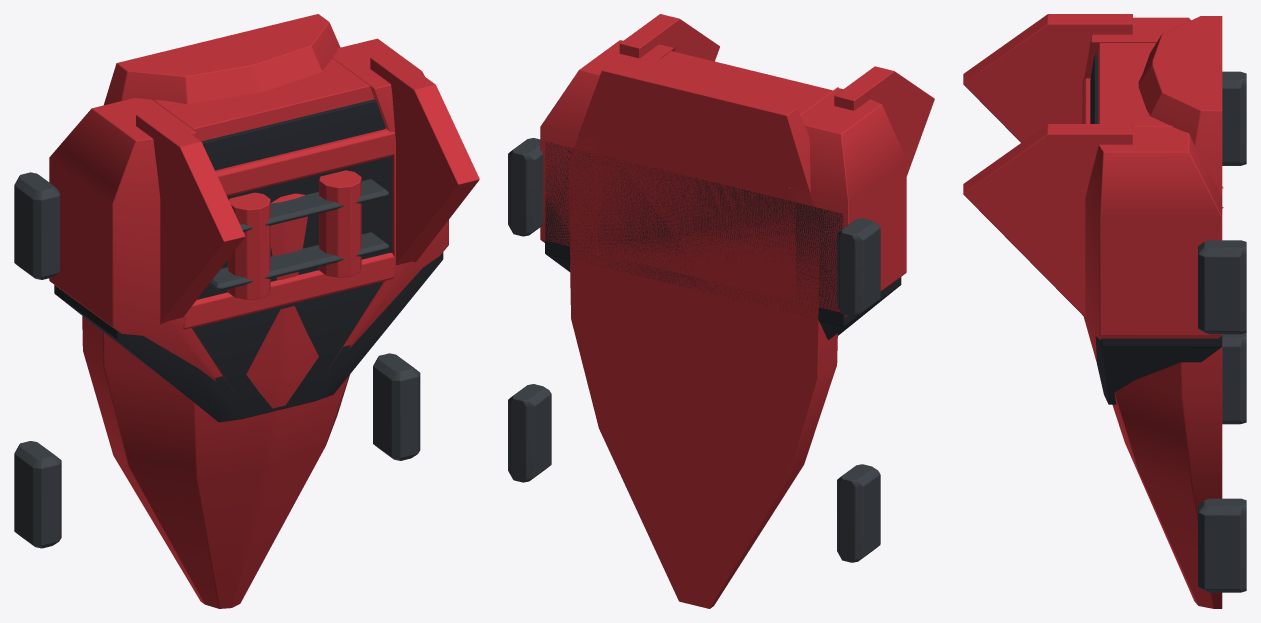
The model's file is ThighBack_Set08_Goliath.fbx.
3 views of the same model, side by side, from view 1: azimuth 30°, elevation 25°; view 2: azimuth 150°, elevation 25°; view 3: azimuth 270°, elevation 25° (orthographic). The views are drawn at different scales.
Parts seen in each view (by area): view 1: ThighBack_Set08_Goliath; view 2: ThighBack_Set08_Goliath; view 3: ThighBack_Set08_Goliath.
Boxes of the visible parts, x1,y1,x2,y2 form: ThighBack_Set08_Goliath: (14, 14, 479, 608); ThighBack_Set08_Goliath: (508, 14, 934, 608); ThighBack_Set08_Goliath: (963, 14, 1246, 608).
Bounding box in the file's own units: 0.53 × 0.73 × 0.3486.
